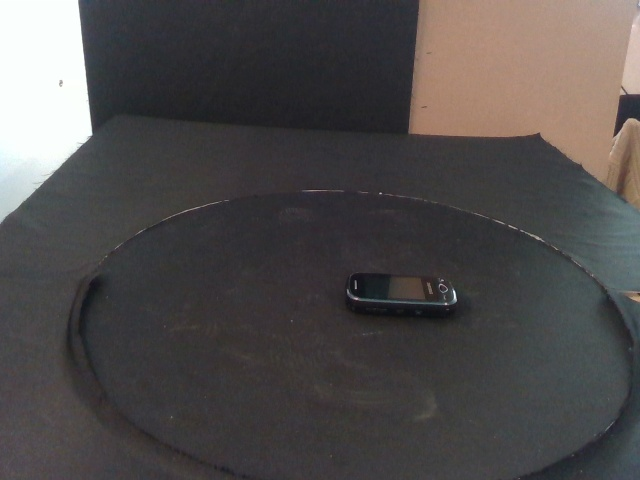phone: (344, 272, 459, 319)
